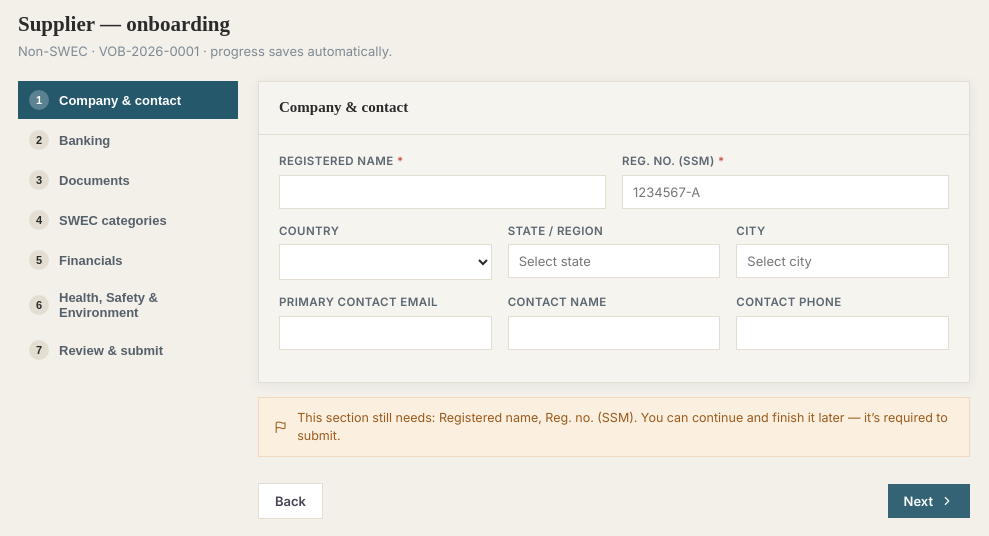
Scenario: OnboardingForm (Slice C) › enforces completeness on submit (lists incomplete sections, does not submit)
This screenshot has width=989, height=536.
Click the button "7 Review & submit". click: (128, 350)
box: [18,331,238,369]
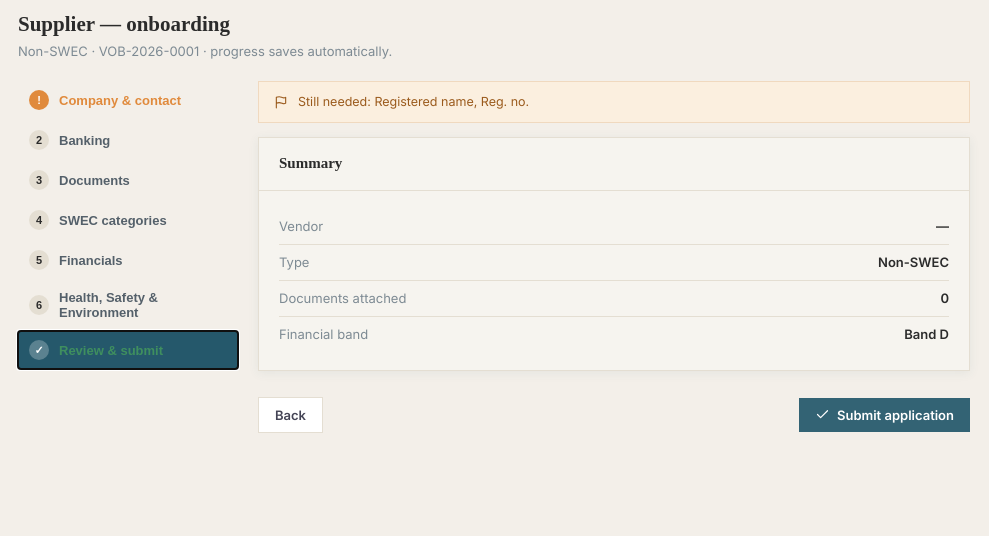
Click the button "Submit application". click: (884, 414)
box: [799,398,970,432]
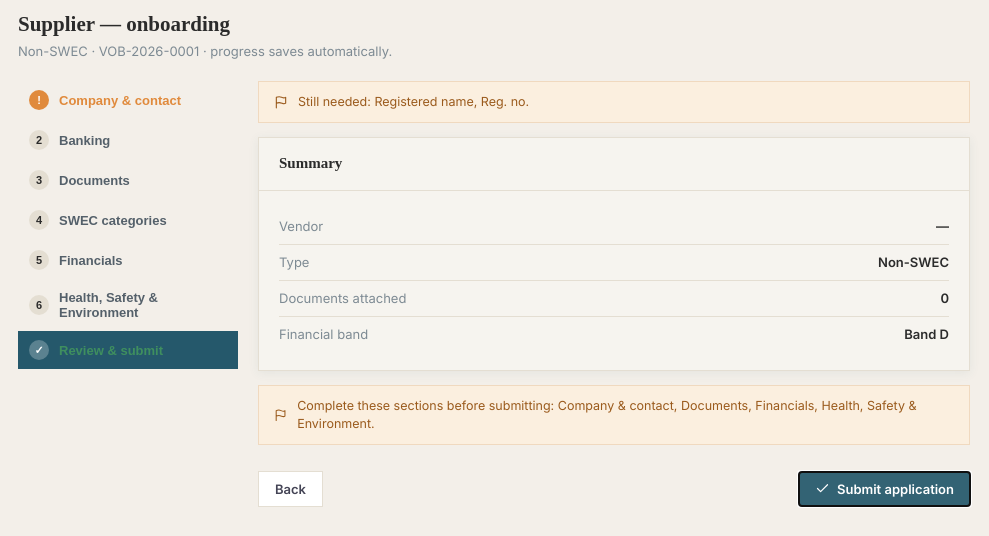
Result: the text "Complete these sections before submitting" is shown at [297,398,558,412]
